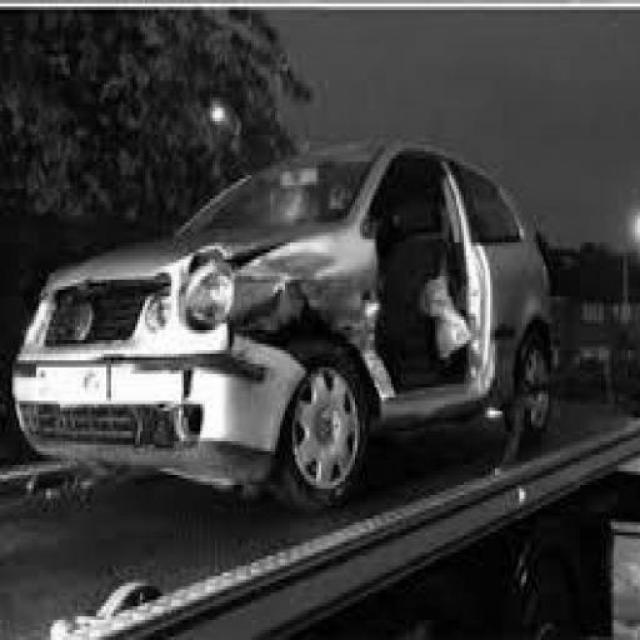crush: (177, 232, 387, 414)
missing: (378, 157, 474, 390)
